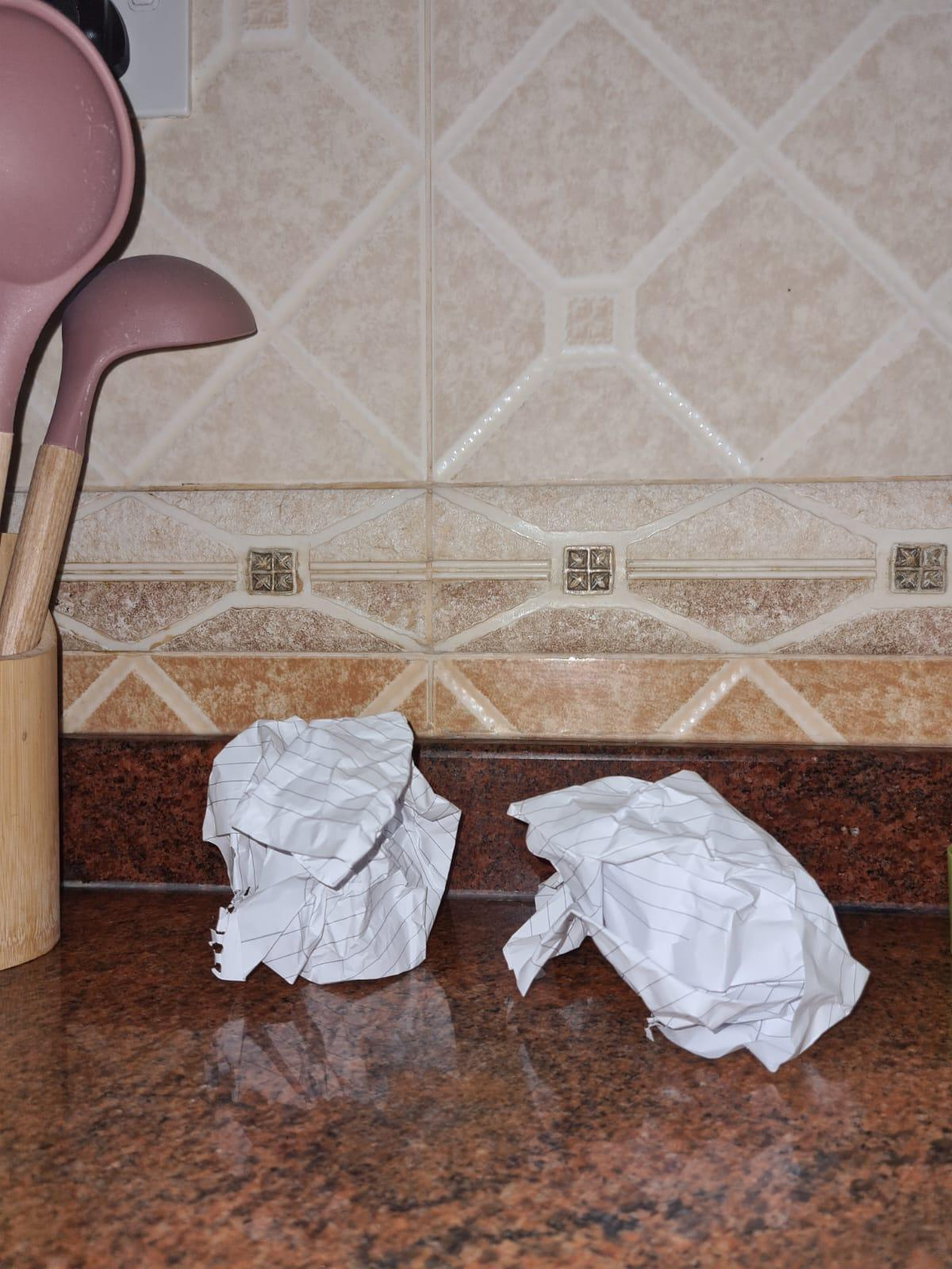paper: (498, 757, 873, 1064), (202, 715, 458, 987)
